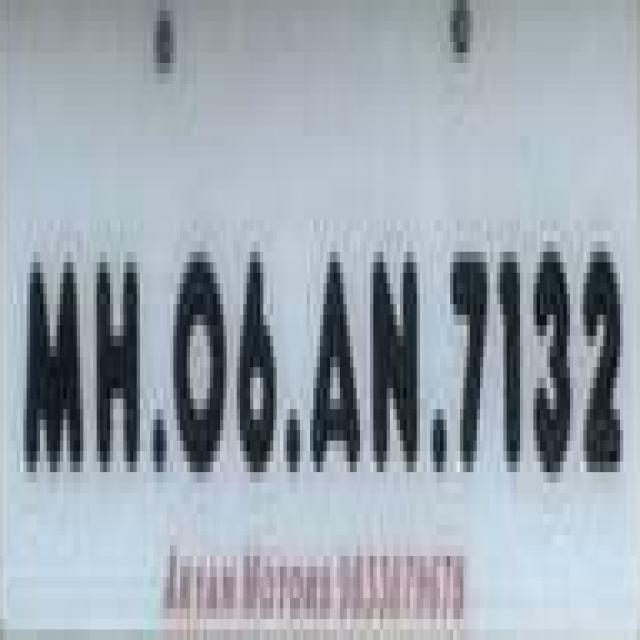license_plate: (0, 52, 610, 598)
